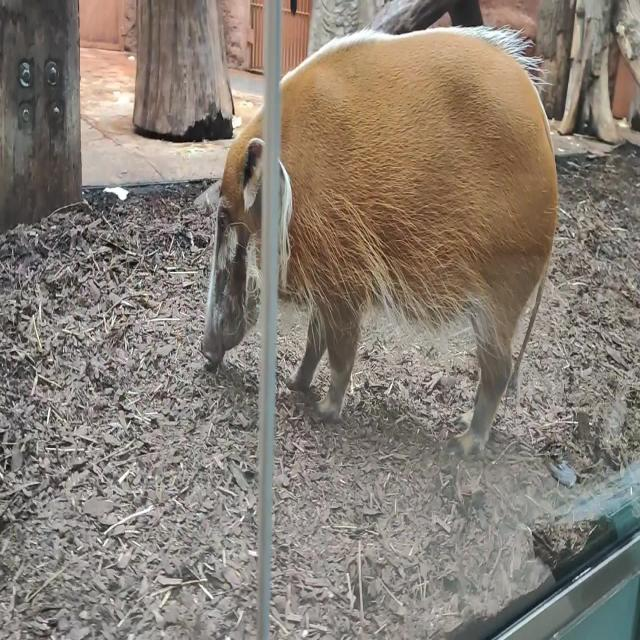boar: (200, 23, 558, 455)
